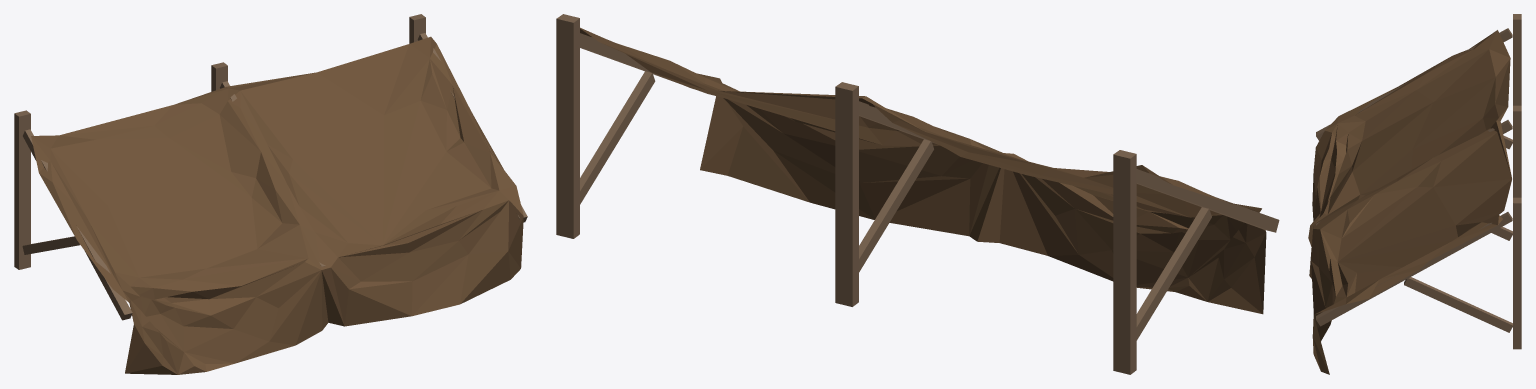
Rendered from awning.lod2.glb.
3 renders of one model, left to right at view 1: azimuth 30°, elevation 25°; view 2: azimuth 150°, elevation 25°; view 3: azimuth 270°, elevation 25°, orthographic. The views are drawn at different scales.
Visible parts, largest first — view 1: wood_base_0; view 2: wood_base_0; view 3: wood_base_0.
Part boxes in pixels (<box>): wood_base_0: <box>14,14,527,374</box>; wood_base_0: <box>556,14,1279,374</box>; wood_base_0: <box>1308,14,1521,374</box>.
Size of the model in its own units: 10.15 by 4.64 by 4.77.
